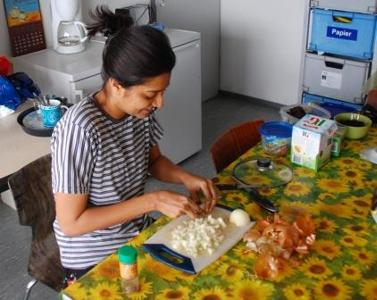person: (47, 4, 221, 282)
